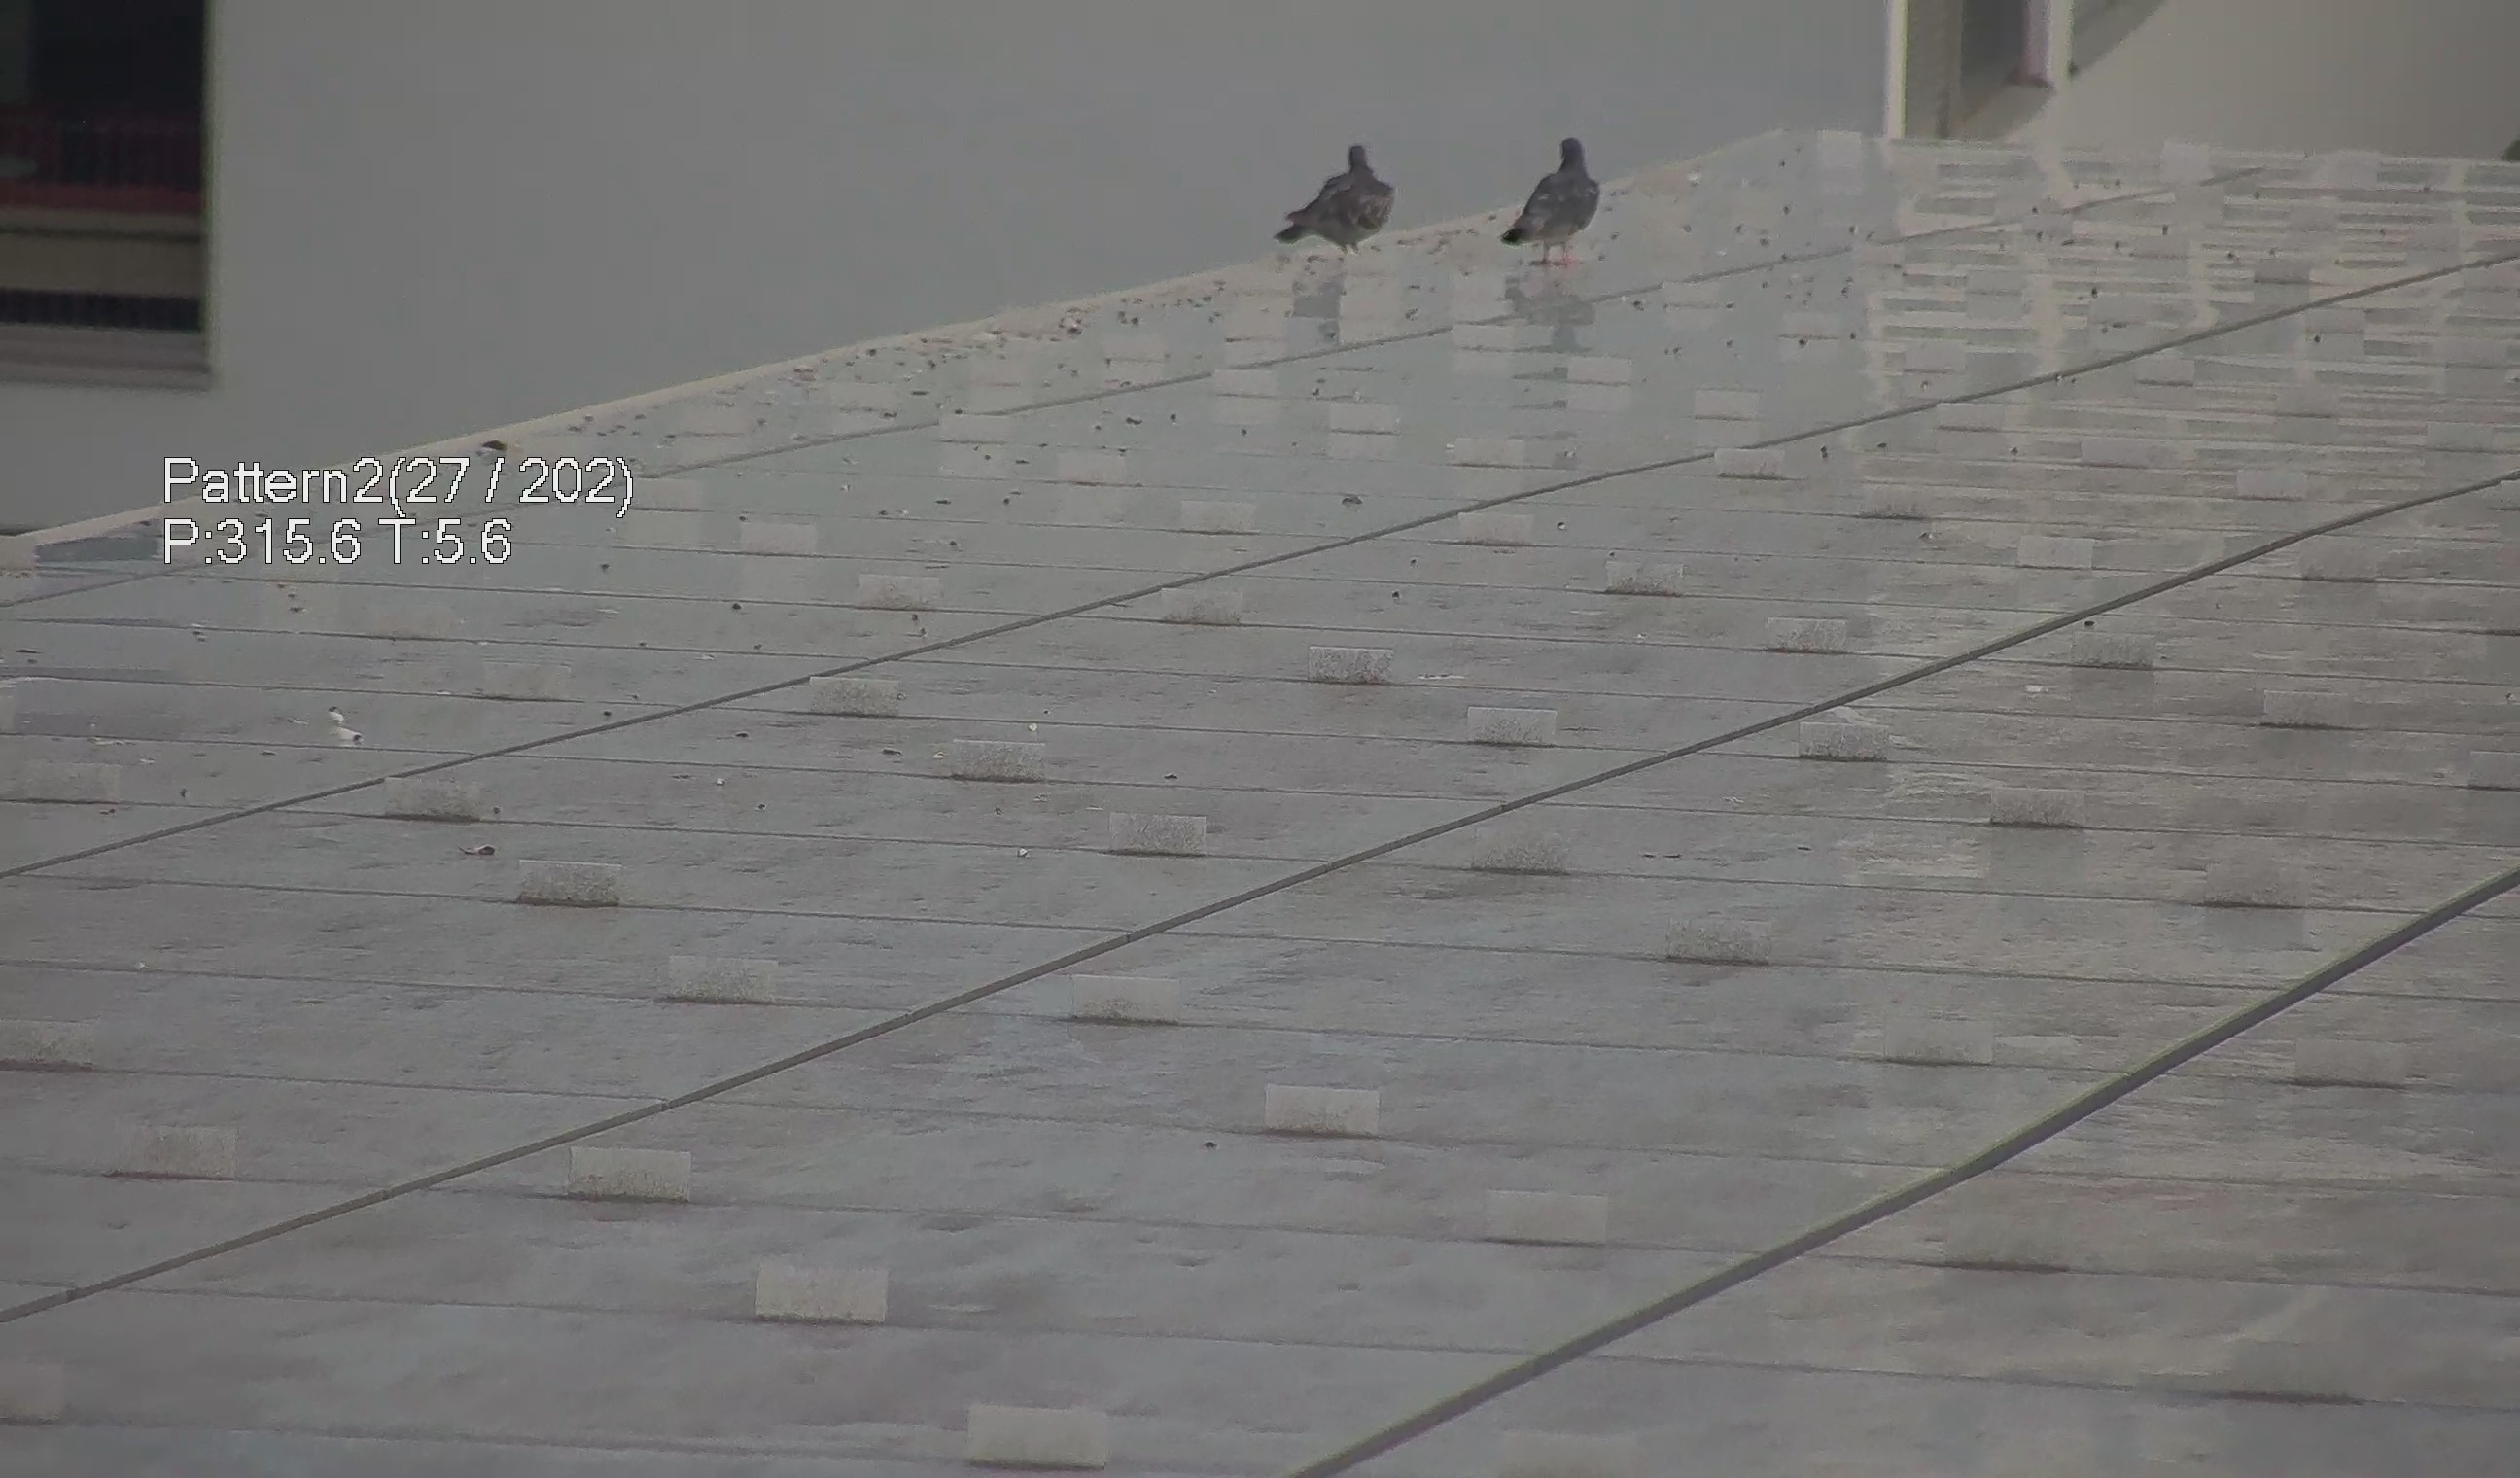Pigeon: (1277, 127, 1407, 264), (1495, 123, 1614, 262)
